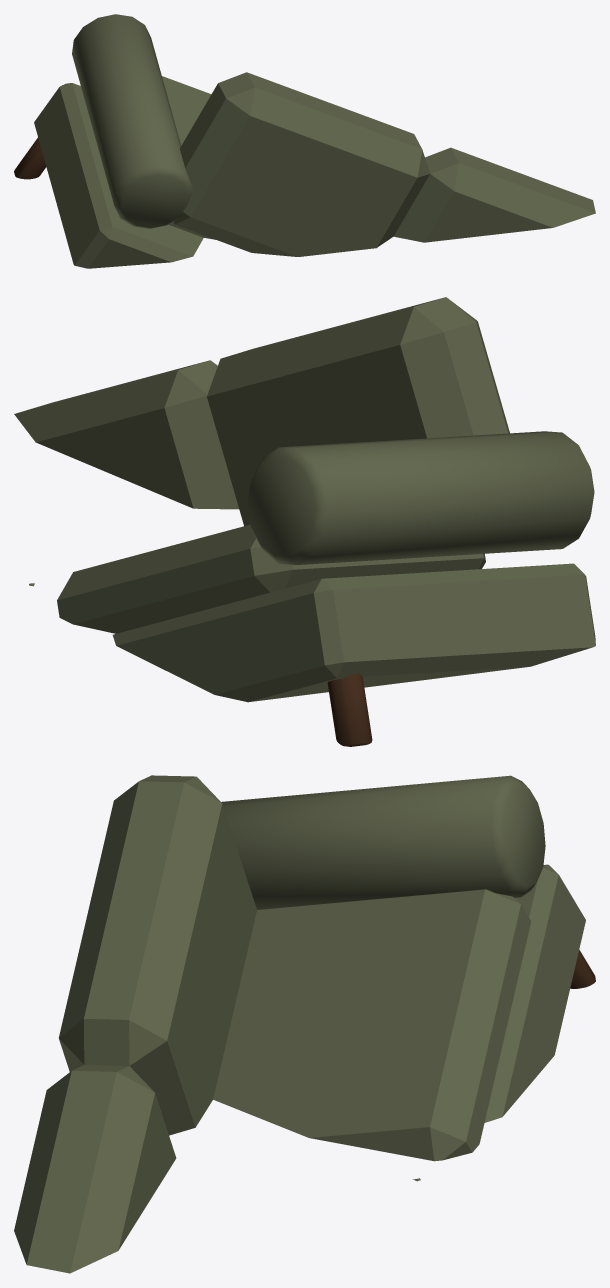
Rendered from prop_sofa_noclipped.obj.
3 renders of one model, top to bottom at view 1: azimuth 30°, elevation 25°; view 2: azimuth 150°, elevation 25°; view 3: azimuth 270°, elevation 25°, orthographic. The views are drawn at different scales.
Parts seen in each view (by area): view 1: BackL, ArmL, Frame, BackR, CushL, Leg_-0.36_0.32; view 2: Frame, ArmL, BackL, BackR, CushL, Leg_-0.36_0.32; view 3: CushL, BackL, ArmL, BackR, Frame.
Boxes of the visible parts, <box> form: BackL: <box>173,72,429,256</box>; ArmL: <box>72,14,193,228</box>; Frame: <box>34,83,203,268</box>; BackR: <box>394,147,595,242</box>; CushL: <box>162,76,215,239</box>; Leg_-0.36_0.32: <box>14,137,46,179</box>; Frame: <box>112,563,595,702</box>; ArmL: <box>247,431,594,564</box>; BackL: <box>207,297,509,526</box>; BackR: <box>14,360,238,509</box>; CushL: <box>57,524,485,633</box>; Leg_-0.36_0.32: <box>327,673,372,746</box>; CushL: <box>213,889,531,1161</box>; BackL: <box>59,775,256,1135</box>; ArmL: <box>221,775,545,909</box>; BackR: <box>14,1065,176,1273</box>; Frame: <box>484,864,585,1122</box>.
Bounding box in the file's own units: 1.69 × 0.6212 × 1.24.
